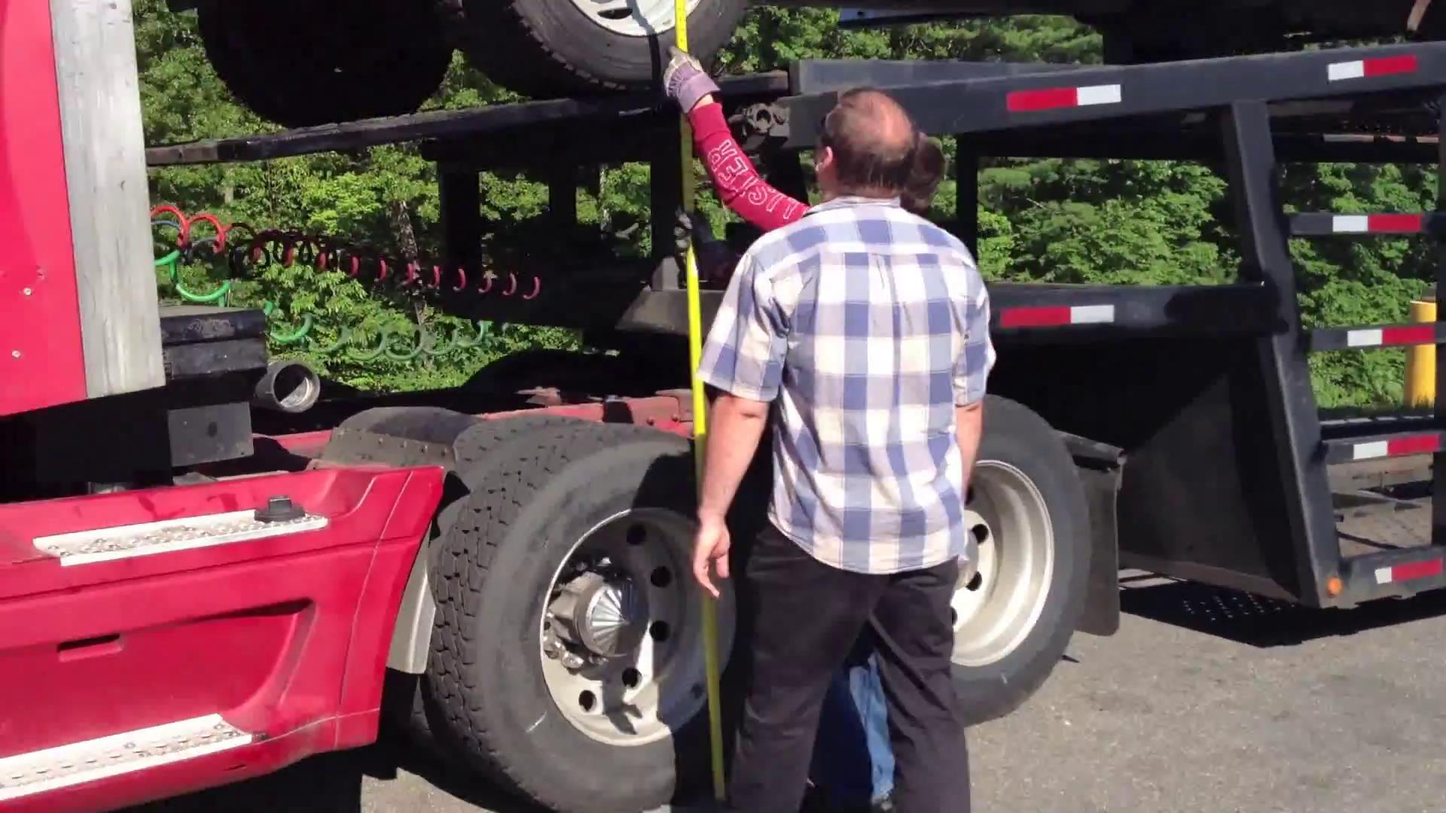victim: (644, 41, 1007, 813)
